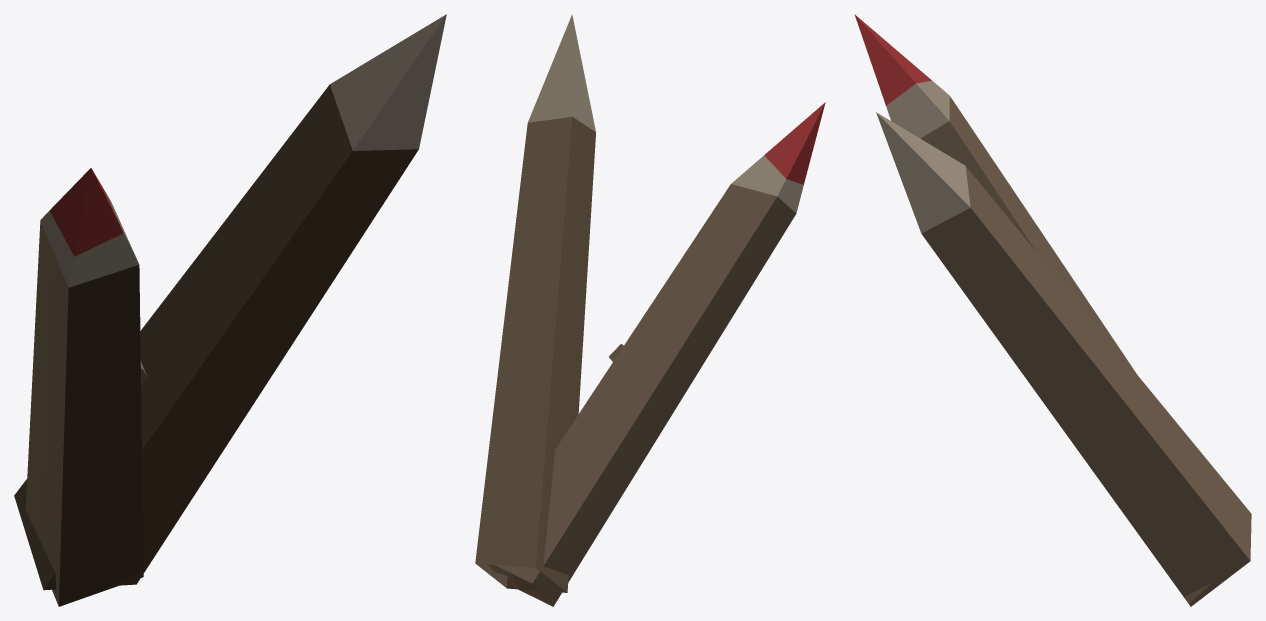
File: SF_Prop_Goblin_Spike_02.fbx
3 renders of one model, left to right at view 1: azimuth 30°, elevation 25°; view 2: azimuth 150°, elevation 25°; view 3: azimuth 270°, elevation 25°, orthographic. The views are drawn at different scales.
Visible parts, largest first — view 1: SF_Prop_Goblin_Spike_02; view 2: SF_Prop_Goblin_Spike_02; view 3: SF_Prop_Goblin_Spike_02.
Part boxes in pixels (<box>): SF_Prop_Goblin_Spike_02: <box>14,14,446,606</box>; SF_Prop_Goblin_Spike_02: <box>475,14,825,606</box>; SF_Prop_Goblin_Spike_02: <box>854,14,1251,606</box>.
Size of the model in its own units: 2.96 by 5.28 by 3.52.
